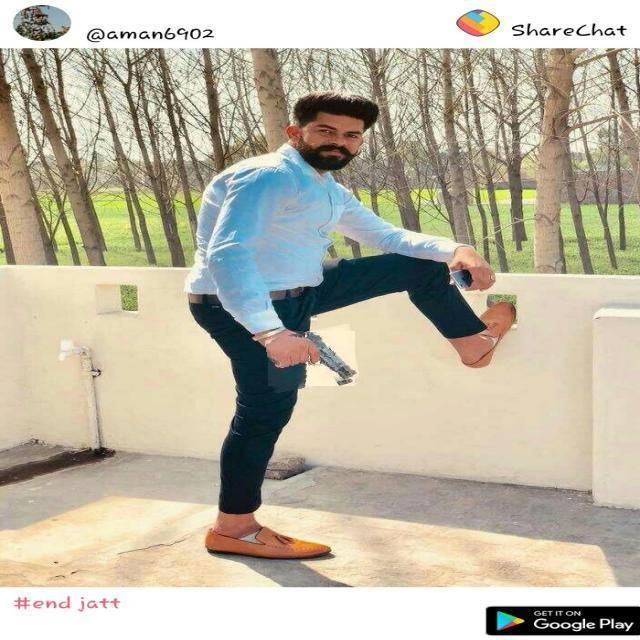rifle: (302, 330, 357, 385)
